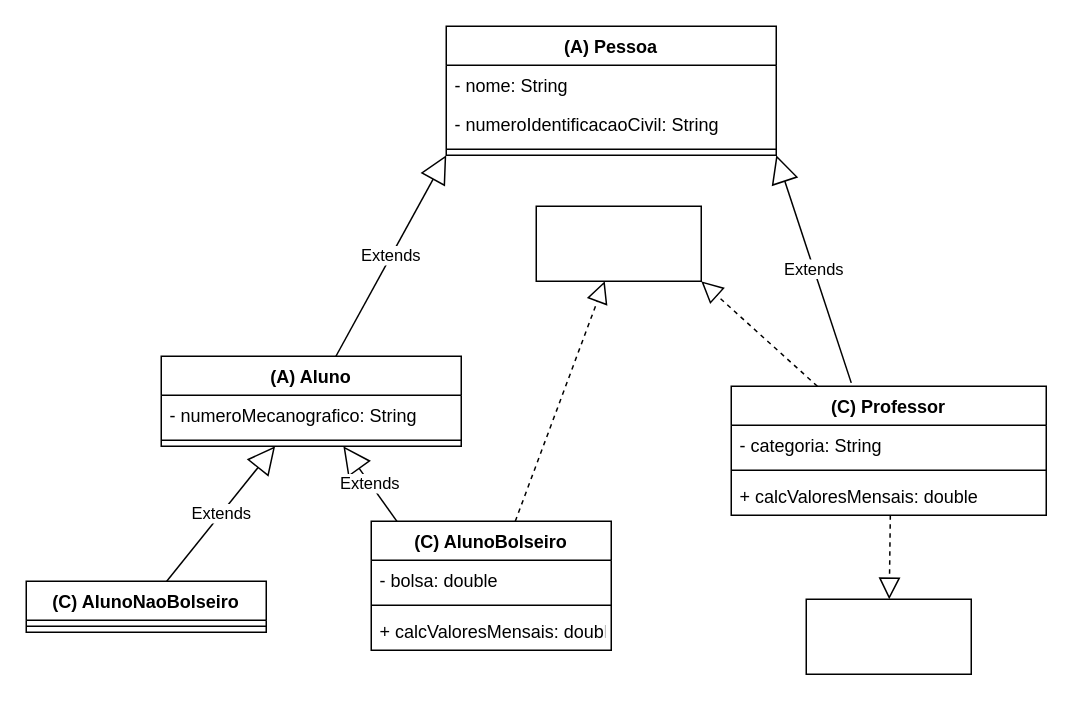
Some shapes in this 1073 by 701 pixel diagram are drawn without their labels. Here are the shapes that lost their labels. From the top down, the centre of each, then its label:
(x=618, y=243): «interface» Calculavel
(x=888, y=636): «interface» Categoria
